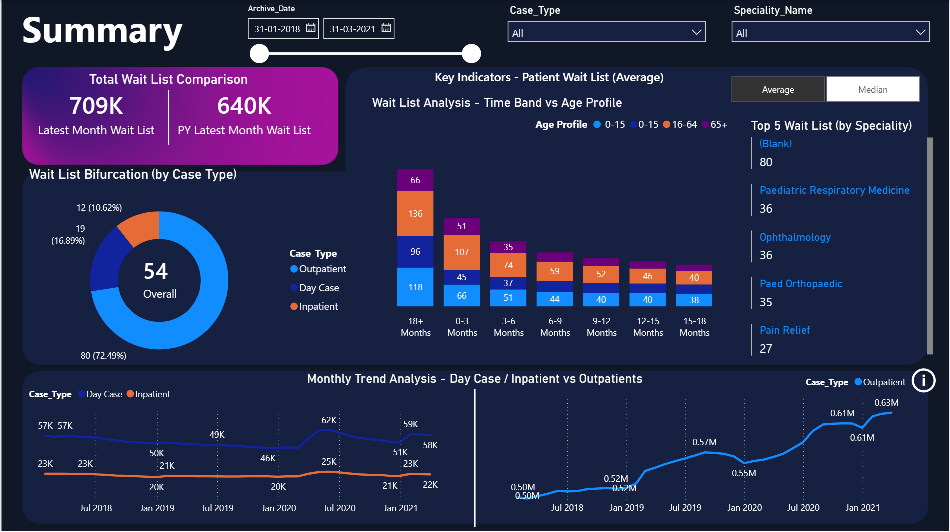

What the dashboard file says about the page in this screenshot:
{"tool":"powerbi","page":{"name":"Summary","canvas":[1280,720],"ordinal":0},"visuals":[{"type":"cardVisual","fields":{"Data":["All_Data.Latest Month Wait List"]},"box":[16,96,224,112],"z":0},{"type":"cardVisual","fields":{"Data":["All_Data.PY Latest Month Wait List"]},"box":[208,96,240,112],"z":1000},{"type":"slicer","fields":{"Values":["Calculation Method.Calc Method"]},"box":[960,96,304,48],"z":2000},{"type":"donutChart","title":"Wait List Bifurcation (by Case Type)","fields":{"Category":["All_Data.Case_Type"],"Y":["All_Data.Avg/Med Wait List"]},"box":[32,224,448,288],"z":3000},{"type":"columnChart","title":"Wait List Analysis - Time Band vs Age Profile","fields":{"Y":["All_Data.Avg/Med Wait List"],"Category":["All_Data.Time_Bands"],"Series":["All_Data.Age_Profile"]},"box":[496,128,496,336],"z":4000},{"type":"multiRowCard","title":"Top 5 Wait List (by Speciality)","fields":{"Values":["All_Data.Avg/Med Wait List","All_Data.Specialty_Name"]},"box":[1008,160,256,336],"z":5000},{"type":"cardVisual","fields":{"Data":["All_Data.NoDataLeft"]},"box":[94,550.5,268.4,57.6],"z":6000},{"type":"lineChart","fields":{"Category":["All_Data.Archive_Date"],"Y":["Sum(All_Data.Total)"],"Series":["All_Data.Case_Type"]},"box":[32,512,576,192],"z":7000},{"type":"cardVisual","fields":{"Data":["All_Data.NoDataRight"]},"box":[815.9,579.3,268.4,57.6],"z":8000},{"type":"lineChart","fields":{"Category":["All_Data.Archive_Date"],"Y":["Sum(All_Data.Total)"],"Series":["All_Data.Case_Type"]},"box":[672,496,560,208],"z":9000},{"type":"slicer","fields":{"Values":["All_Data.Archive_Date"]},"box":[320,0,336,96],"z":10000},{"type":"slicer","fields":{"Values":["All_Data.Case_Type"]},"box":[674,0,288,96.5],"z":11000},{"type":"slicer","fields":{"Values":["All_Data.Speciality_Name"]},"box":[976,0,288,96],"z":12000},{"type":"textbox","box":[16,0,240,80],"z":13000},{"type":"cardVisual","fields":{"Data":["All_Data.Avg/Med Wait List"]},"box":[169.3,327.5,112.3,96.5],"z":14000},{"type":"shape","title":"Total Wait List Comparison","box":[75.9,96.5,300.6,99.7],"z":15000},{"type":"cardVisual","fields":{"Data":["All_Data.Dynamic Title"]},"box":[556.9,71.2,373.4,60],"z":16000},{"type":"actionButton","box":[1213.5,479.4,66.5,68],"z":17000},{"type":"shape","title":"Monthly Trend Analysis - Day Case / Inpatient vs Outpatients","box":[362.3,501.6,555.4,210.4],"z":18000}]}

Visuals, with their boxes in screenshot pixels (x1, y1, x2, y2), scaled from the page's 1280x720 canvas onto the 950x532 screenshot:
cardVisual - All_Data.Latest Month Wait List: l=12, t=71, r=178, b=154
cardVisual - All_Data.PY Latest Month Wait List: l=154, t=71, r=332, b=154
slicer - Calculation Method.Calc Method: l=712, t=71, r=938, b=106
"Wait List Bifurcation (by Case Type)" donutChart: l=24, t=166, r=356, b=378
"Wait List Analysis - Time Band vs Age Profile" columnChart: l=368, t=95, r=736, b=343
"Top 5 Wait List (by Speciality)" multiRowCard: l=748, t=118, r=938, b=366
cardVisual - All_Data.NoDataLeft: l=70, t=407, r=269, b=449
lineChart - All_Data.Archive_Date x Sum(All_Data.Total): l=24, t=378, r=451, b=520
cardVisual - All_Data.NoDataRight: l=606, t=428, r=805, b=471
lineChart - All_Data.Archive_Date x Sum(All_Data.Total): l=499, t=366, r=914, b=520
slicer - All_Data.Archive_Date: l=238, t=0, r=487, b=71
slicer - All_Data.Case_Type: l=500, t=0, r=714, b=71
slicer - All_Data.Speciality_Name: l=724, t=0, r=938, b=71
textbox: l=12, t=0, r=190, b=59
cardVisual - All_Data.Avg/Med Wait List: l=126, t=242, r=209, b=313
"Total Wait List Comparison" shape: l=56, t=71, r=279, b=145
cardVisual - All_Data.Dynamic Title: l=413, t=53, r=690, b=97
actionButton: l=901, t=354, r=949, b=404
"Monthly Trend Analysis - Day Case / Inpatient vs Outpatients" shape: l=269, t=371, r=681, b=526
